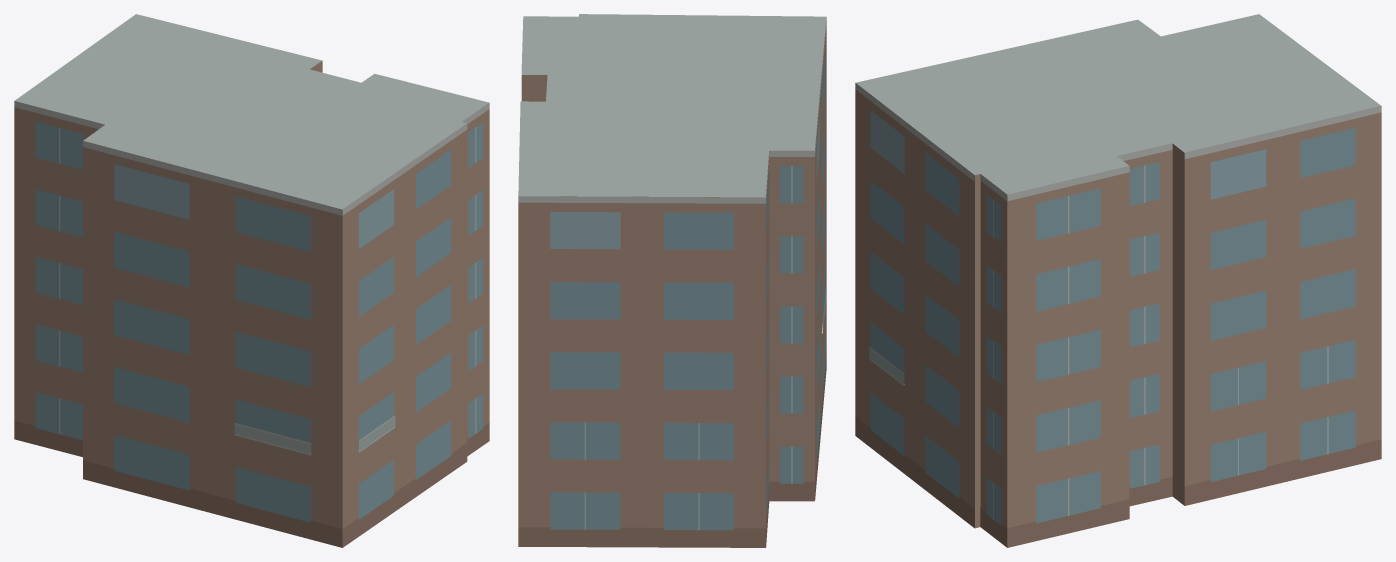
Rendered from survey-upis-32658033.glb.
The picture shows the model from 3 angles, left to right: view 1: azimuth 30°, elevation 25°; view 2: azimuth 150°, elevation 25°; view 3: azimuth 270°, elevation 25°; orthographic projection. The views are drawn at different scales.
Parts seen in each view (by area): view 1: survey-upis-32658033.tmp; view 2: survey-upis-32658033.tmp; view 3: survey-upis-32658033.tmp.
Boxes of the visible parts, box(x1,y1,x2,y2) form: survey-upis-32658033.tmp: box(14, 14, 489, 547); survey-upis-32658033.tmp: box(518, 14, 826, 547); survey-upis-32658033.tmp: box(855, 14, 1381, 547).
Bounding box in the file's own units: 14.5 × 13.2 × 17.83.
